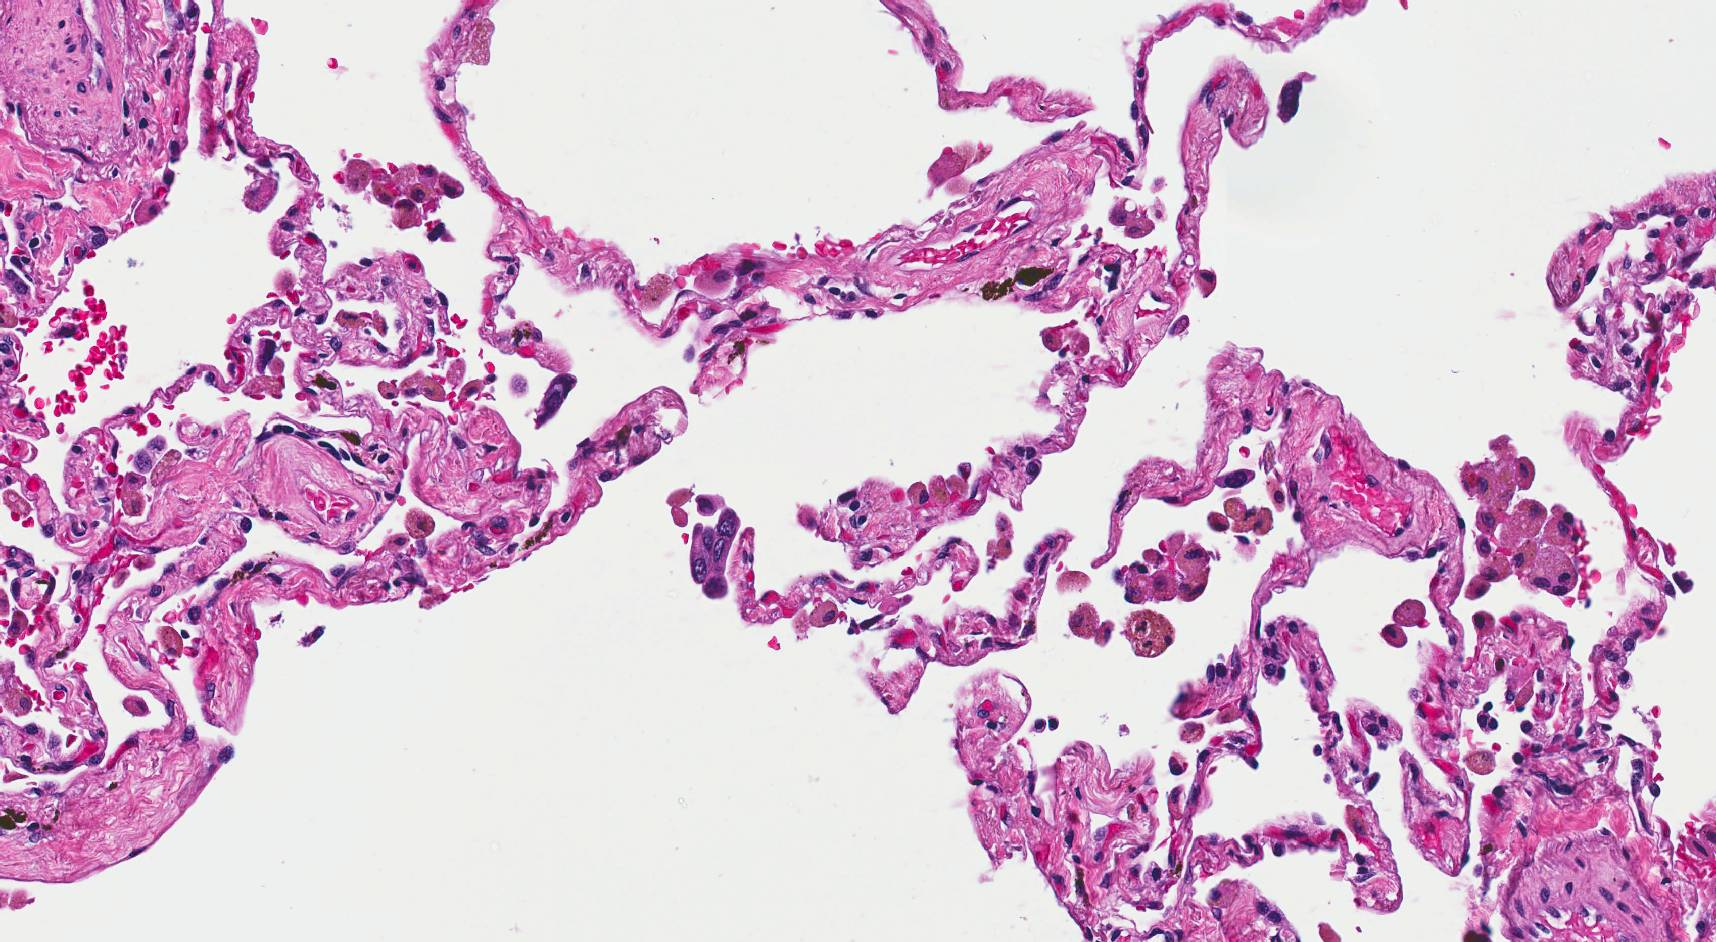stas: (688, 509, 740, 602), (530, 372, 576, 432)
